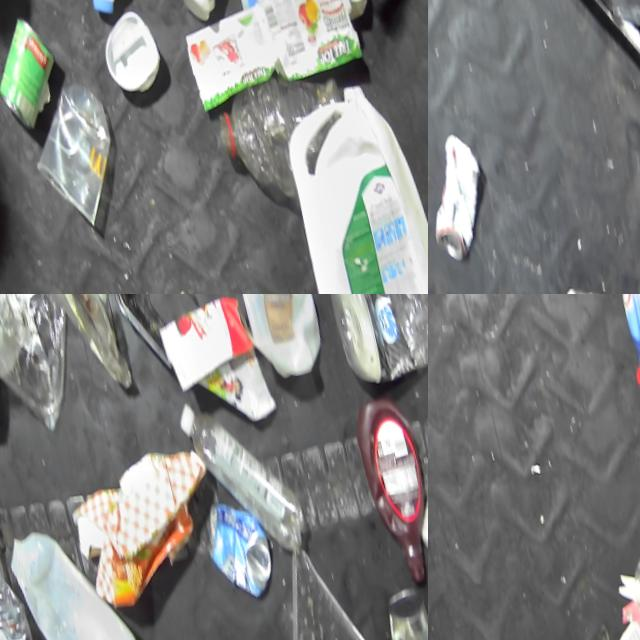can: (428, 123, 498, 264), (193, 486, 274, 594), (0, 5, 63, 123), (374, 572, 428, 640)
milk_jug: (276, 79, 428, 294), (0, 508, 151, 640), (210, 294, 324, 374)
non_white_jug: (349, 387, 428, 570)
plastic_bottle: (170, 371, 313, 574), (200, 57, 346, 152), (0, 507, 51, 640)
